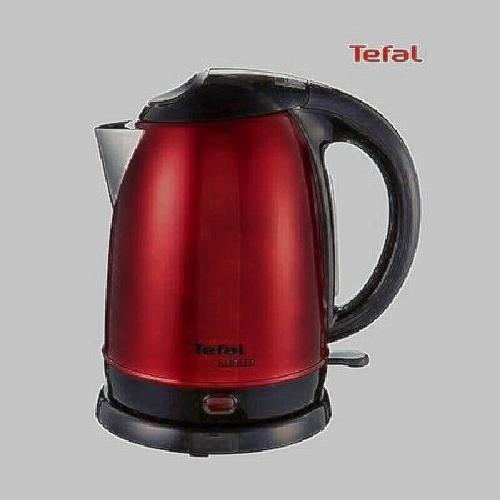kettle: (90, 58, 394, 459)
